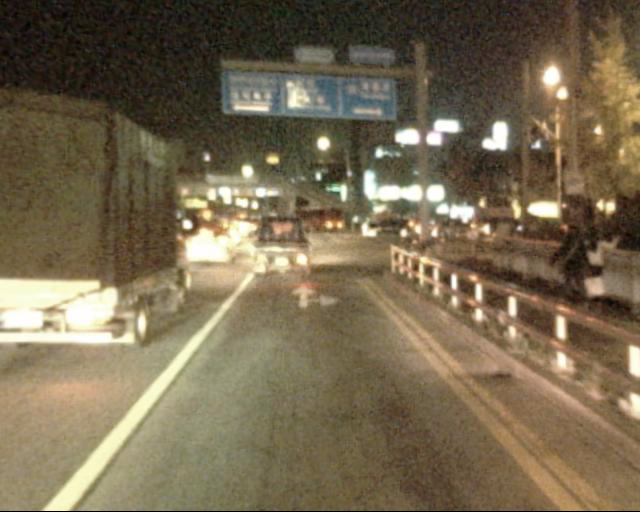person: (555, 218, 586, 312), (575, 223, 607, 313)
